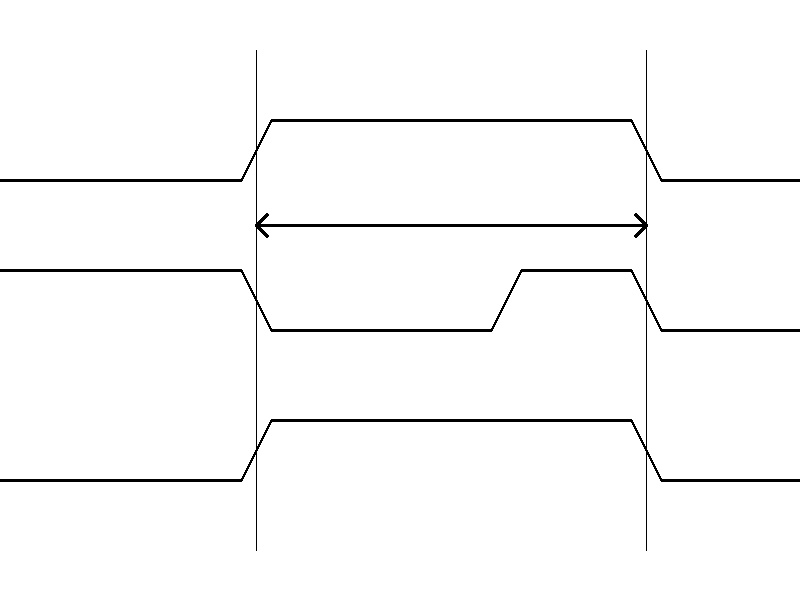double_arrow: (256, 210, 646, 240)
